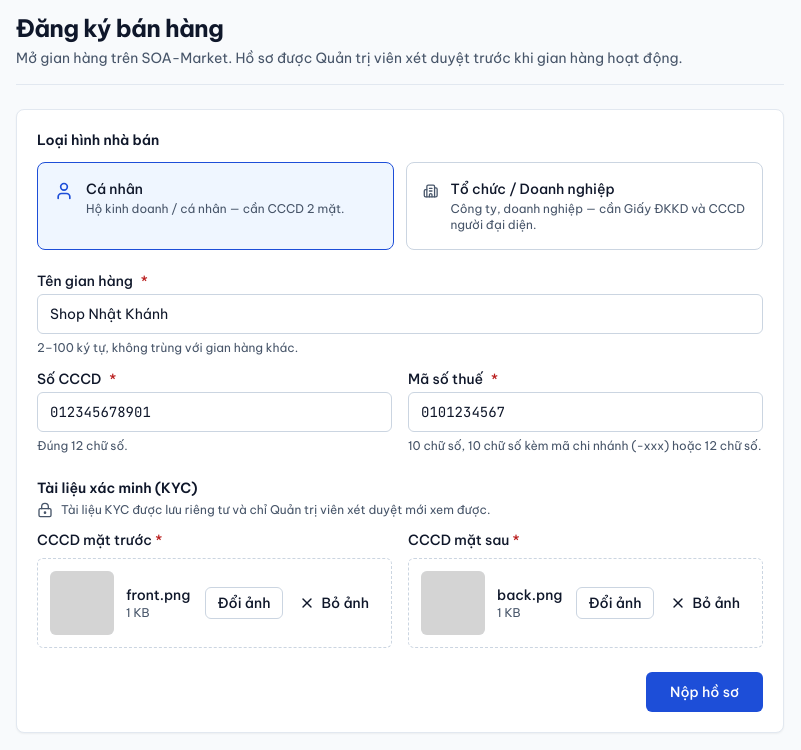
Test case: SellerOnboardingPage (/seller-onboarding — FR-SEL-001) › submits multipart with only the documents of the chosen type, then shows PENDING
The image size is (801, 750).
Earlier steps of the test are not shown.
Click the button "Nộp hồ sơ".
click(705, 692)  # box [646,672,763,712]
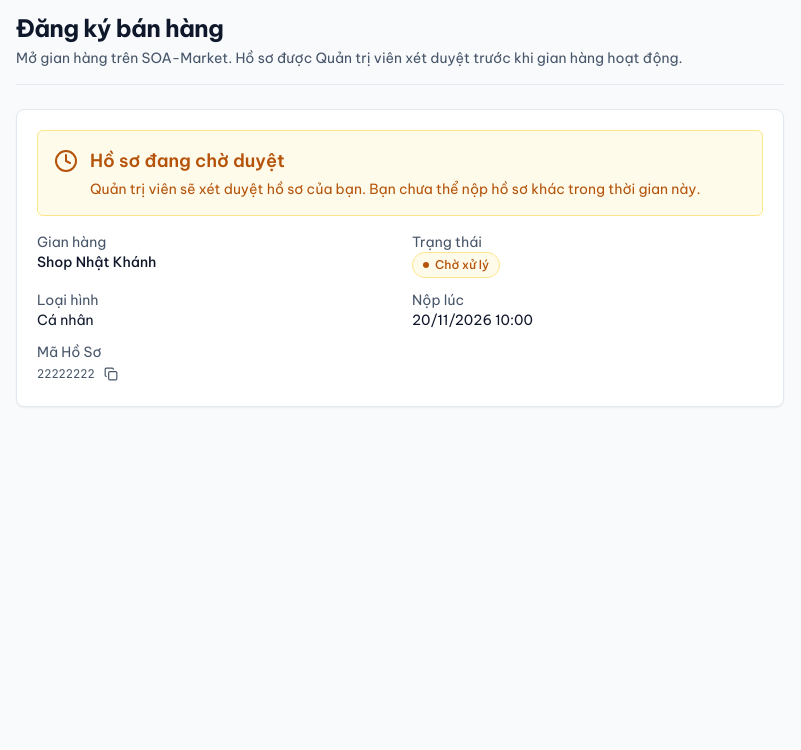
Now the heading "Hồ sơ đang chờ duyệt" is shown, box [90,149,285,172]
